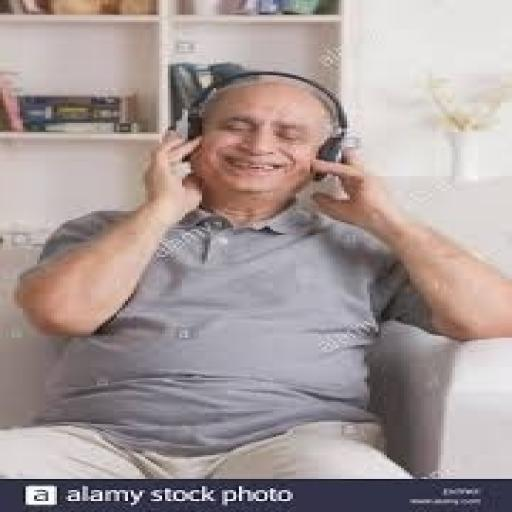listening_to_music: (0, 64, 509, 479)
